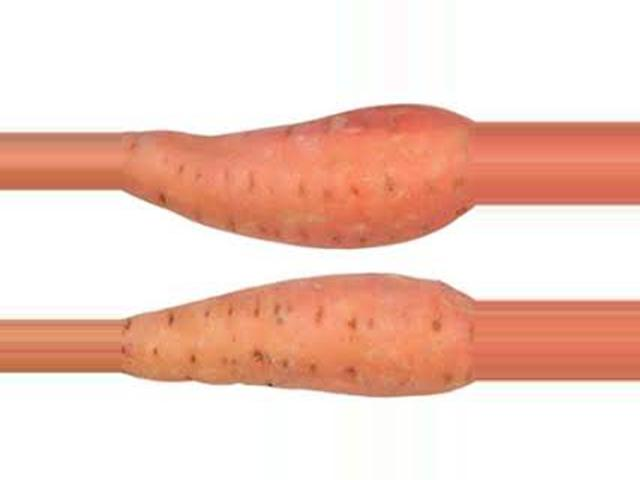sweet_potato: (129, 270, 476, 392)
